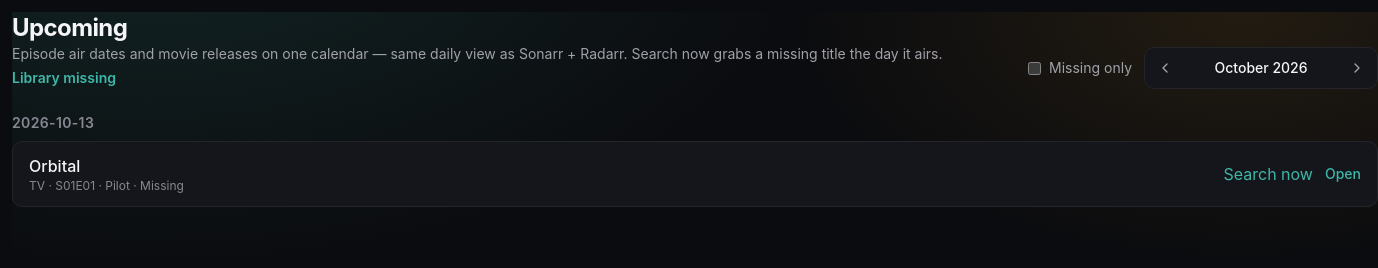
it: Upcoming page › searches a missing series from the calendar
Click the button "Search now" at (1268, 174), box [1224,162,1313,186]
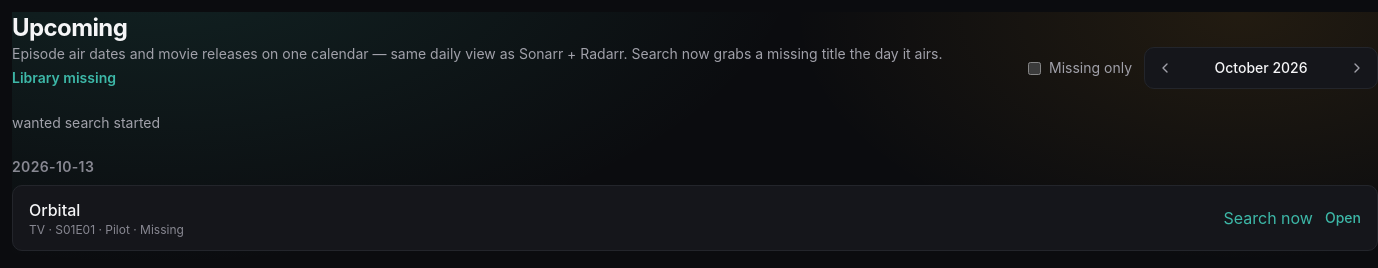
Now the text "wanted search started" is shown, box [12,114,160,131]
